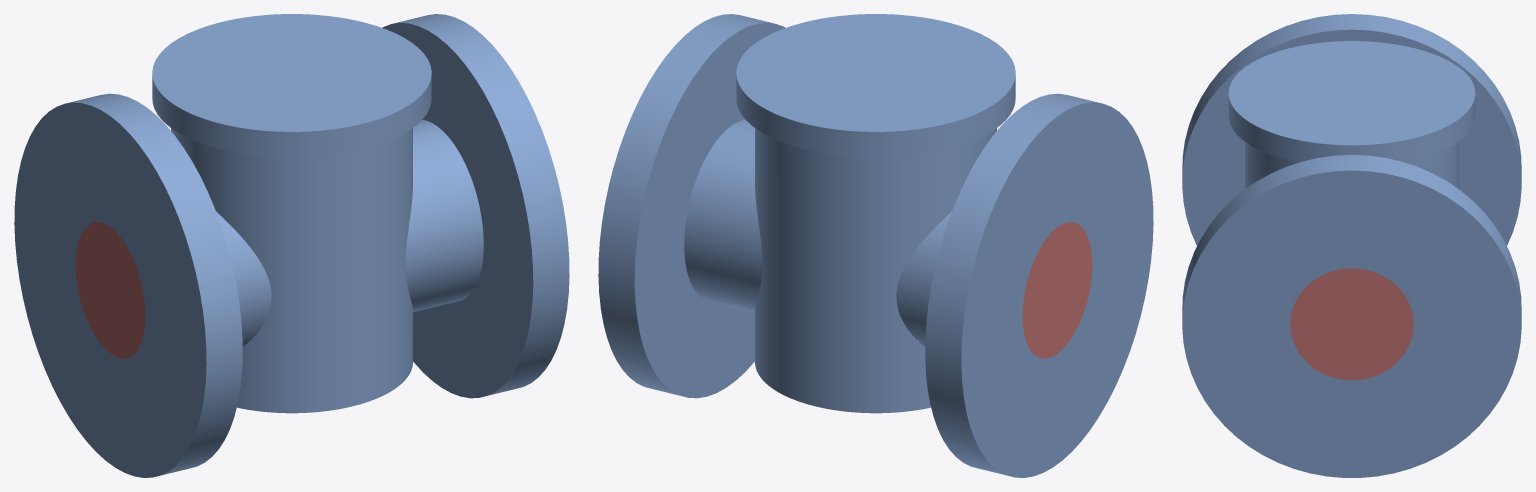
Rendered from step_12.glb.
3 renders of one model, left to right at view 1: azimuth 30°, elevation 25°; view 2: azimuth 150°, elevation 25°; view 3: azimuth 270°, elevation 25°, orthographic. The views are drawn at different scales.
Parts seen in each view (by area): view 1: part__body top valve, removed__body top valve; view 2: part__body top valve, removed__body top valve; view 3: part__body top valve, removed__body top valve.
Boxes of the visible parts, left/top/right/bottom form: part__body top valve: left=14, top=14, right=569, bottom=477; removed__body top valve: left=75, top=222, right=145, bottom=358; part__body top valve: left=598, top=14, right=1153, bottom=477; removed__body top valve: left=1022, top=222, right=1092, bottom=358; part__body top valve: left=1182, top=14, right=1521, bottom=477; removed__body top valve: left=1290, top=268, right=1413, bottom=380.
Size of the model in its own units: 180 by 165 by 165.
